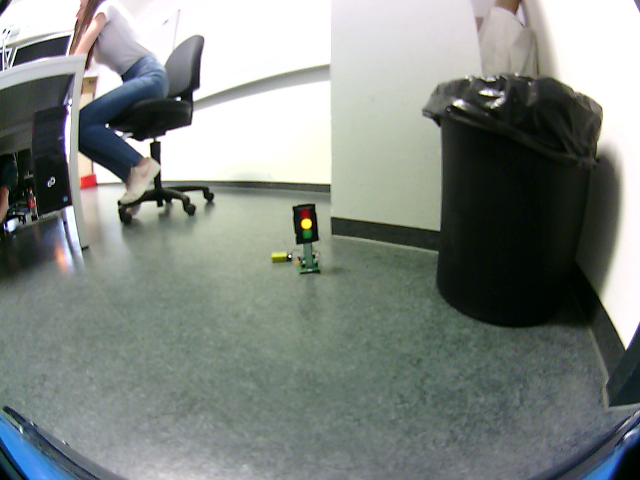yellow trafficlight: (295, 207, 316, 240)
